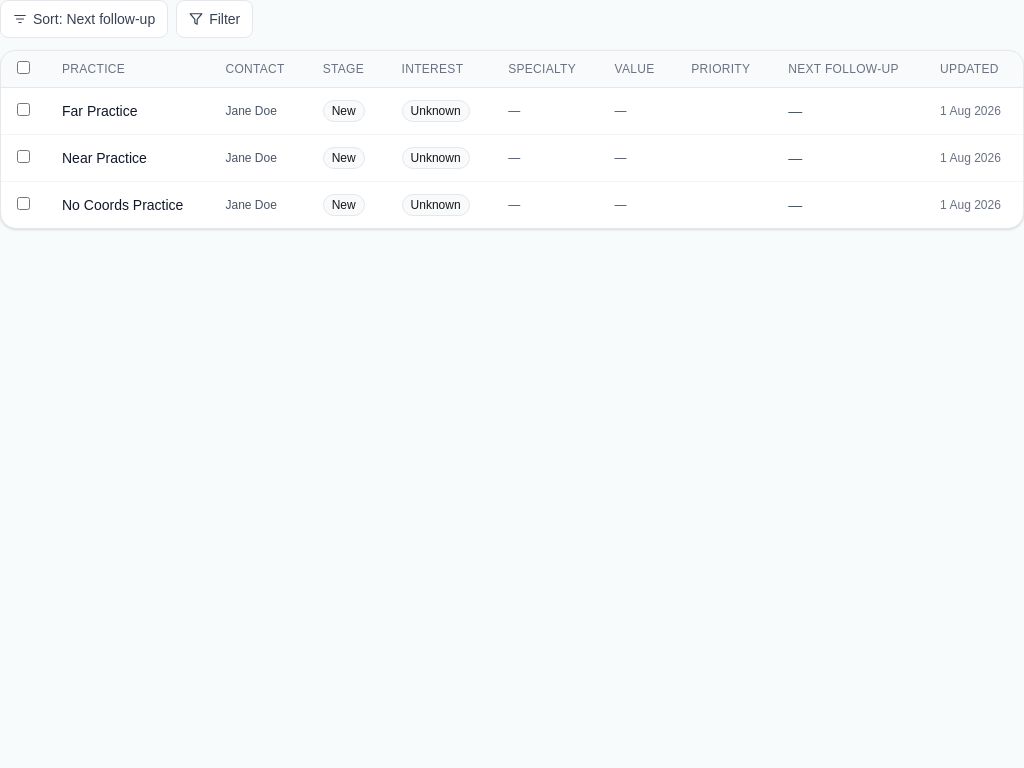
Test case: LeadsListSection — "Distance from me" sort, owned here (not the results table) › picking "Distance from me" in the Sort sheet requests location and sorts ascending
The image size is (1024, 768).
Click the button with test id "open-sort-sheet".
click(84, 19)  # box [0, 0, 168, 38]
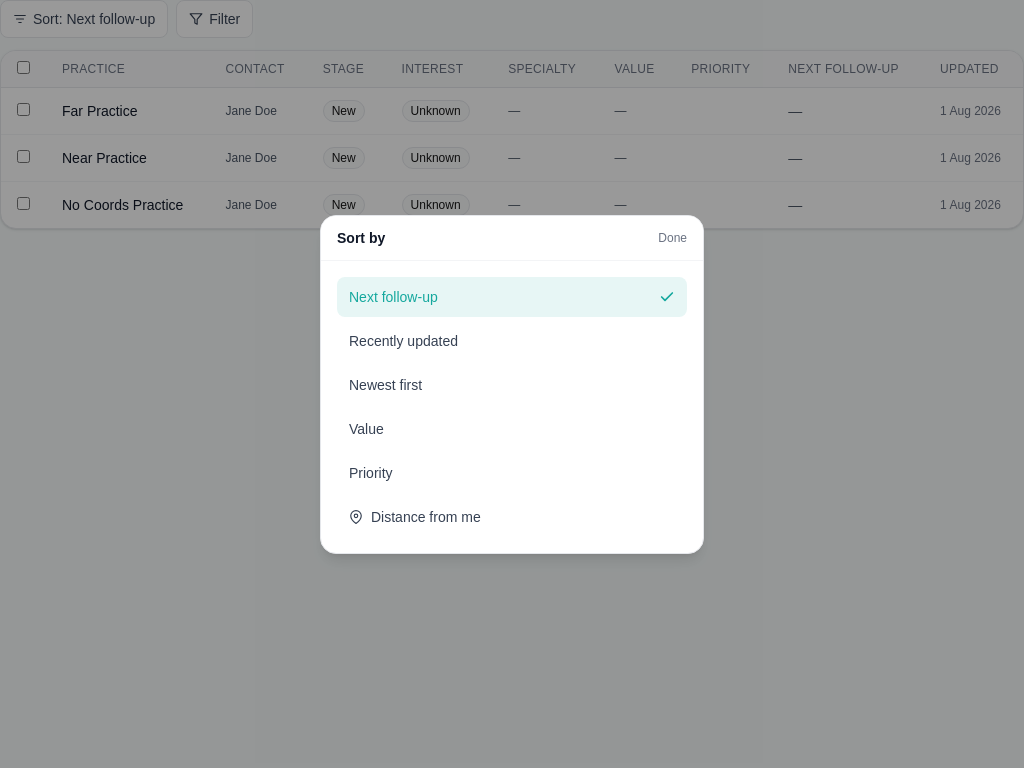
Click the button with test id "sort-option:distance".
click(426, 516)  # box [337, 496, 687, 536]
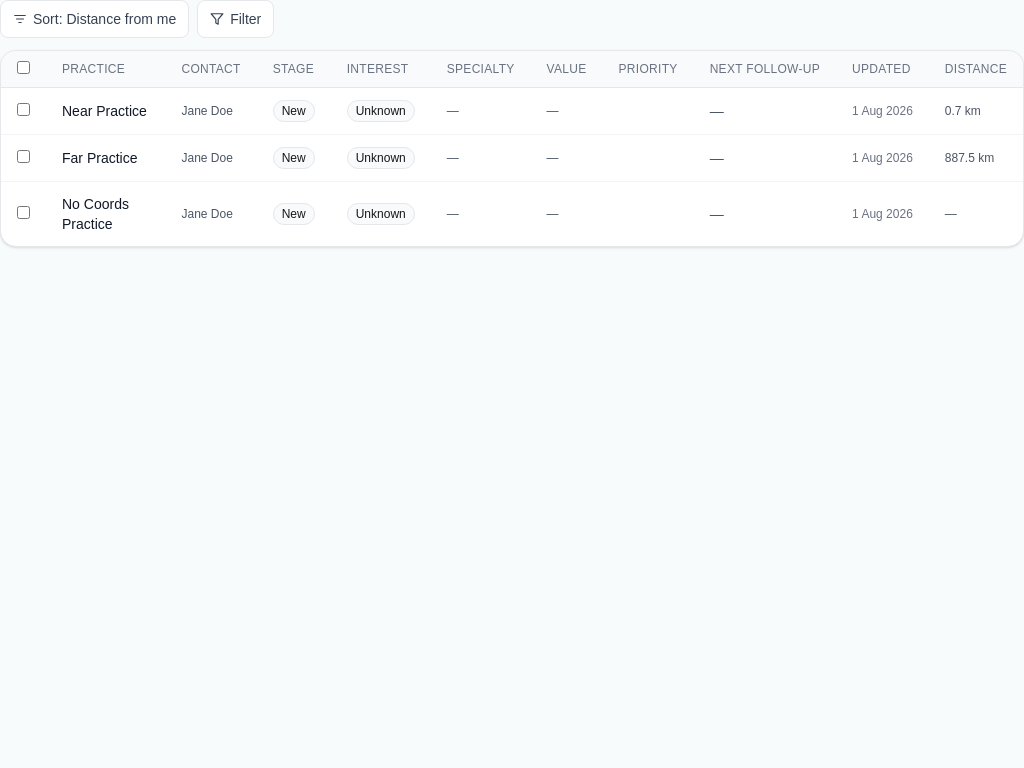
Expected: the element with test id "lead-distance:near" does not show "—"
Expected: the cell with test id "lead-distance:near" reads "0.7 km", [945, 104, 981, 118]
